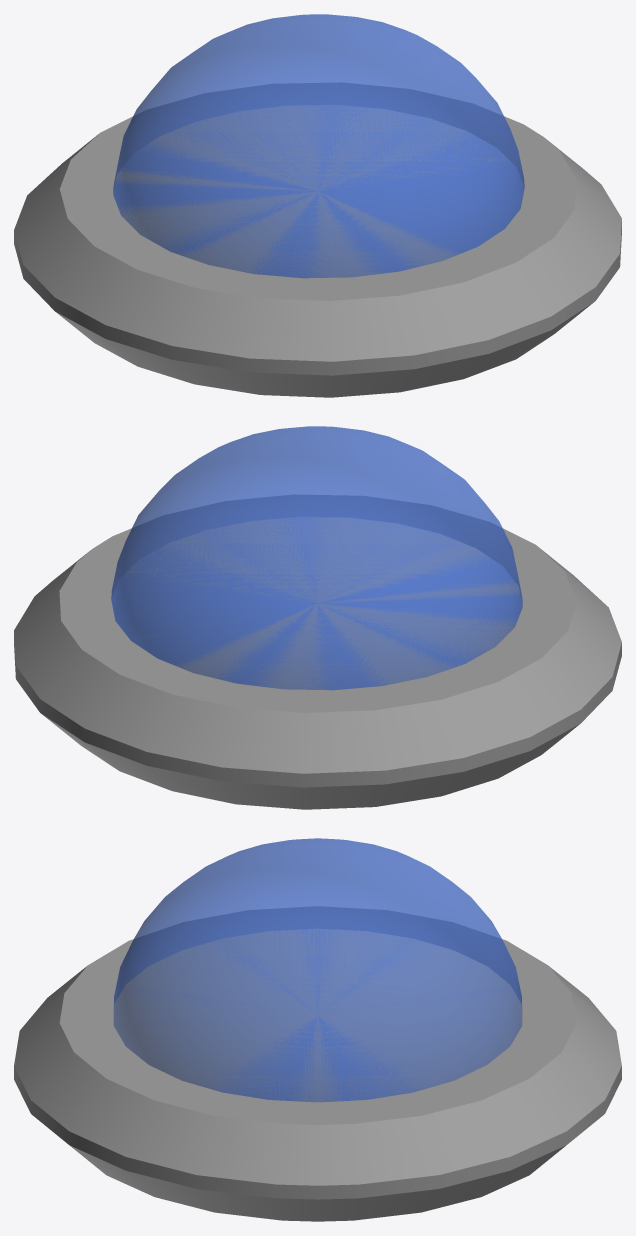
Rendered from ufo.glb.
3 views of the same model, one above another, from view 1: azimuth 30°, elevation 25°; view 2: azimuth 150°, elevation 25°; view 3: azimuth 270°, elevation 25° (orthographic).
Parts seen in each view (by area): view 1: Solid_6, Extruded.001; view 2: Solid_6, Extruded.001; view 3: Solid_6, Extruded.001.
Boxes of the visible parts, left/top/right/bottom form: Solid_6: left=14, top=82, right=621, bottom=397; Extruded.001: left=113, top=14, right=524, bottom=278; Solid_6: left=14, top=494, right=621, bottom=809; Extruded.001: left=111, top=426, right=522, bottom=690; Solid_6: left=14, top=906, right=621, bottom=1221; Extruded.001: left=113, top=838, right=522, bottom=1102.
Size of the model in its own units: 160 by 90 by 160.
